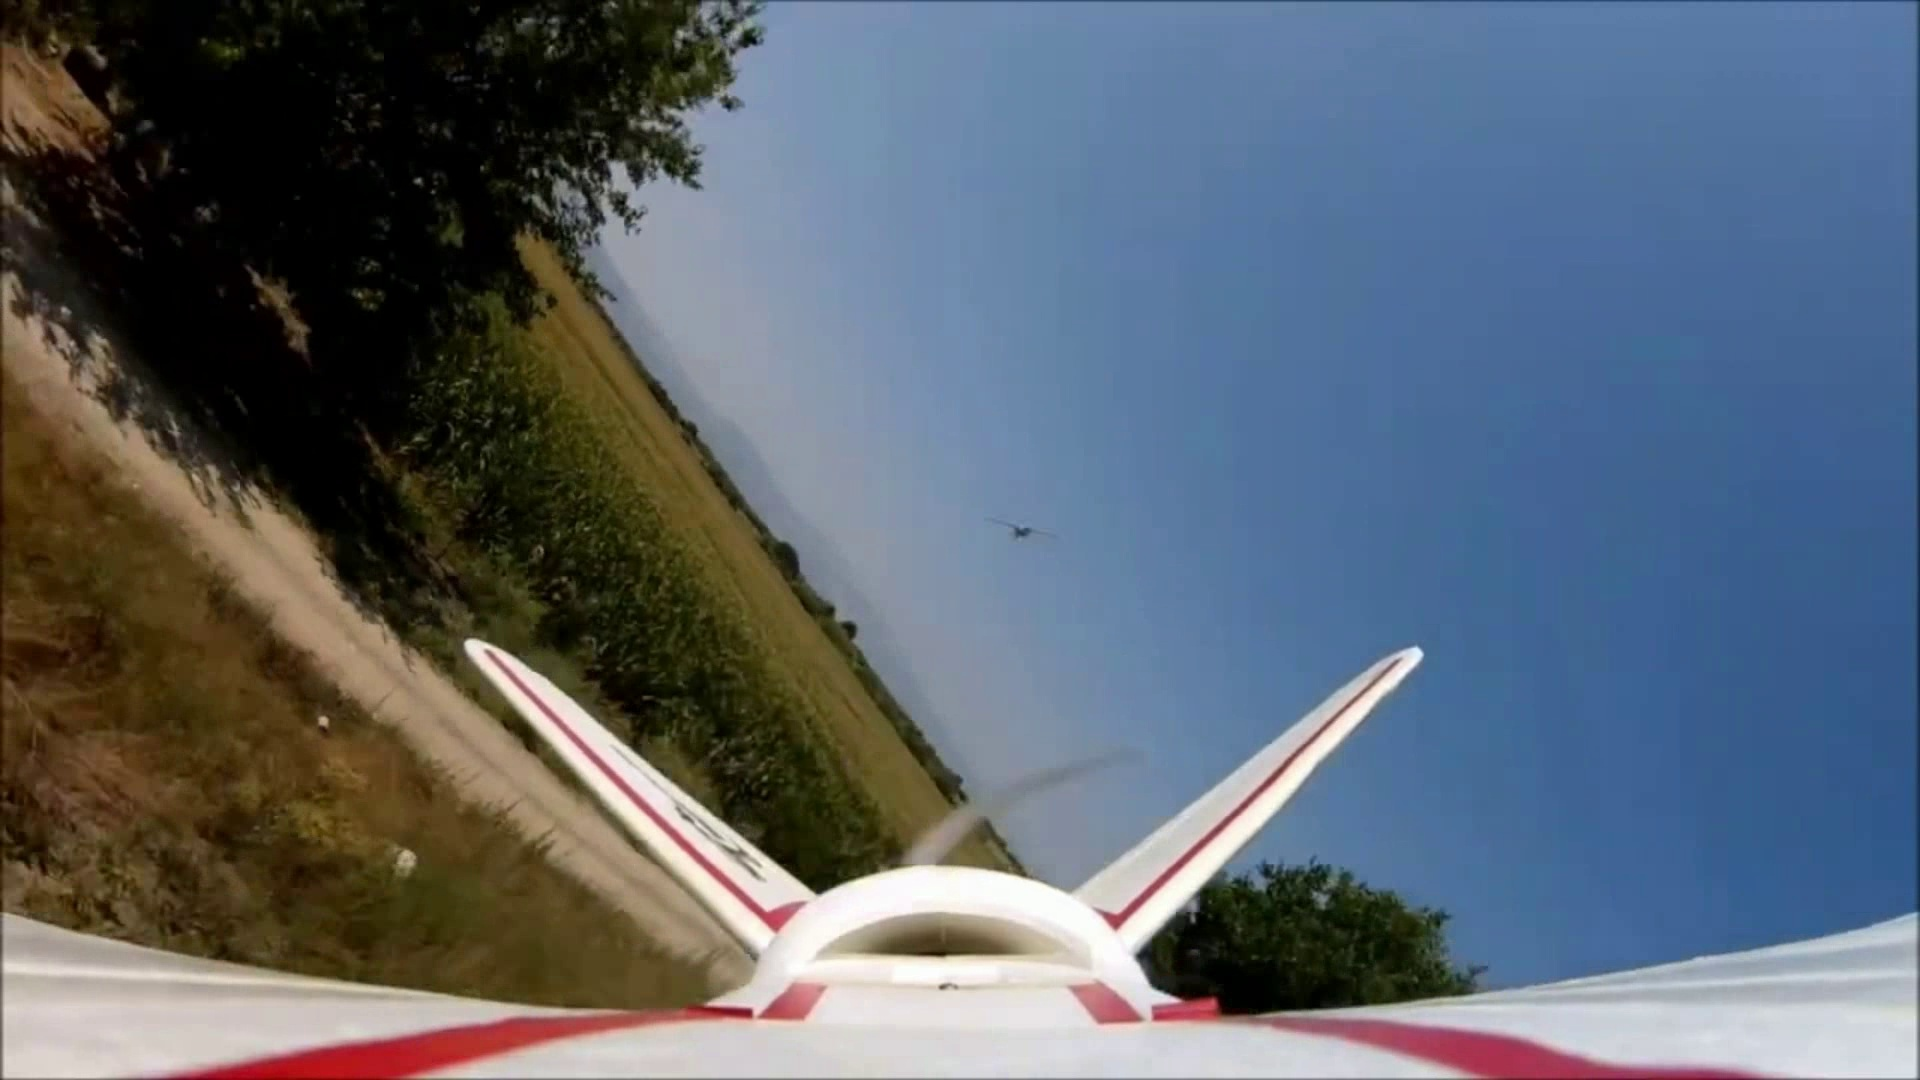airplane: (8, 638, 1912, 1067)
